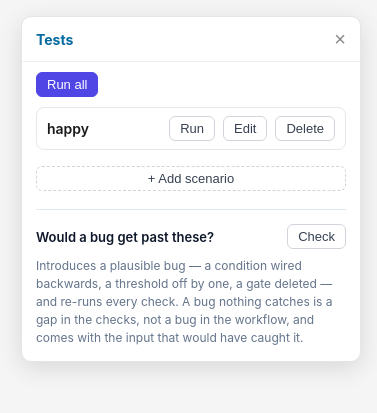
it: TestsPanel › runs a single scenario
Click the button "Run" at point(192, 128), box [169, 116, 215, 141]
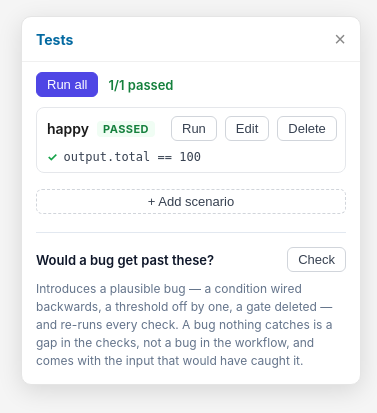
expect the text "passed" is shown: met, box [97, 120, 155, 136]
